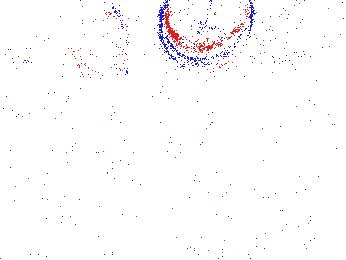moon jellyfish: (161, 1, 253, 71), (19, 1, 111, 64), (261, 1, 346, 65), (72, 2, 129, 78)
